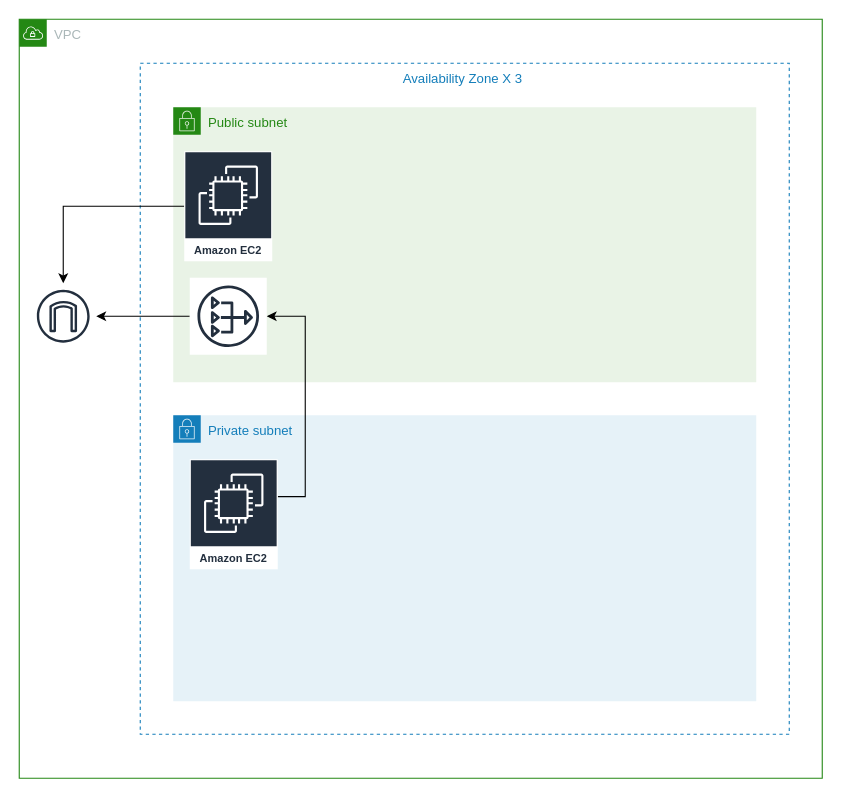
Image size: 842x798. Some labels were removed from this diagram. The centre of each missing label's shape, as x and y in pixels:
Internet gateway: point 62,315
NAT gateway: point 228,316
